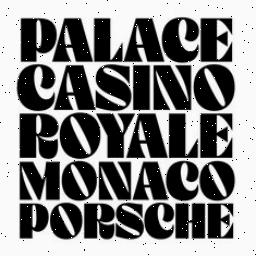a: (52, 14, 94, 66), (127, 11, 163, 69), (126, 114, 166, 162), (132, 158, 172, 204), (56, 63, 92, 113)
c: (158, 8, 206, 66), (162, 158, 202, 206)
e: (194, 14, 244, 68), (206, 198, 240, 246)
m: (16, 161, 72, 205)
o: (58, 155, 104, 203), (194, 61, 236, 113), (61, 111, 101, 165), (198, 156, 238, 206), (52, 196, 88, 246)
p: (14, 12, 58, 64), (18, 204, 48, 242)
r: (15, 112, 63, 160), (82, 198, 114, 242)
